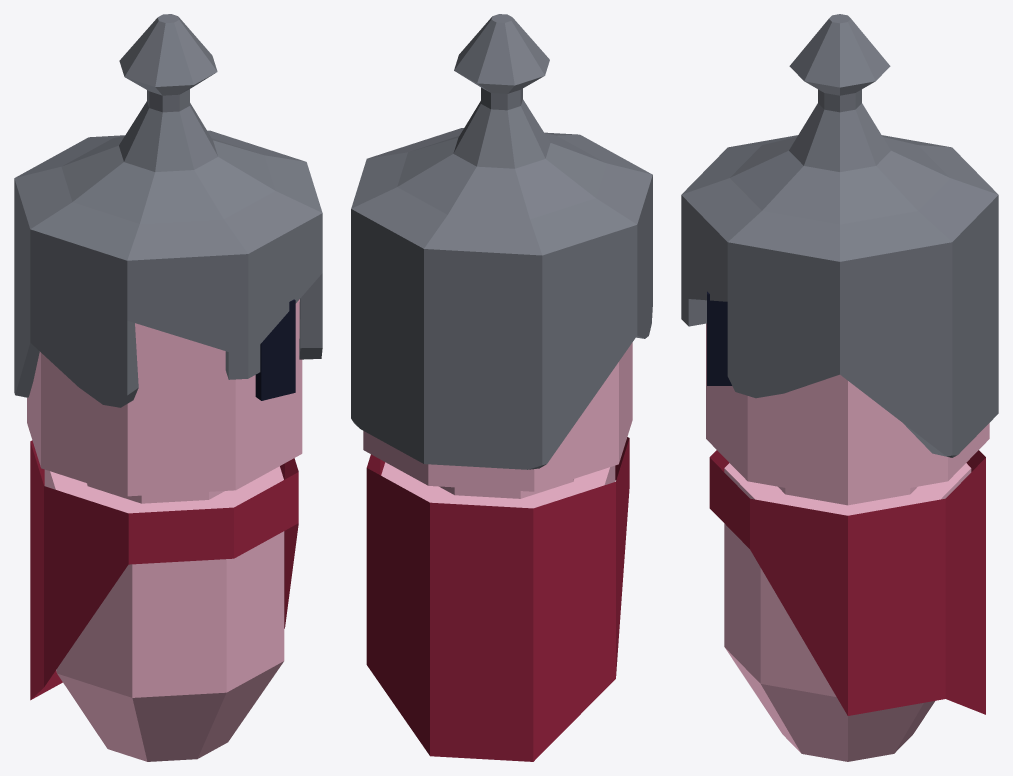
File: knight.glb
The picture shows the model from 3 angles, left to right: view 1: azimuth 30°, elevation 25°; view 2: azimuth 150°, elevation 25°; view 3: azimuth 270°, elevation 25°; orthographic projection. The views are drawn at different scales.
Visible parts, largest first — view 1: Hat, Body, Cloak, Eyes; view 2: Hat, Cloak, Body; view 3: Hat, Cloak, Body, Eyes.
Part boxes in pixels (box(x1,y1,x2,y2)): Hat: box(14, 14, 322, 407); Body: box(27, 299, 302, 761); Cloak: box(30, 440, 298, 700); Eyes: box(255, 299, 295, 400); Hat: box(351, 14, 652, 469); Cloak: box(366, 437, 629, 761); Body: box(363, 342, 632, 508); Hat: box(681, 14, 998, 457); Cloak: box(709, 450, 985, 715); Body: box(706, 323, 989, 761); Eyes: box(707, 291, 731, 385).
Bounding box in the file's own units: 1.29 × 3.2 × 1.29.
1 material, 1 textured.
